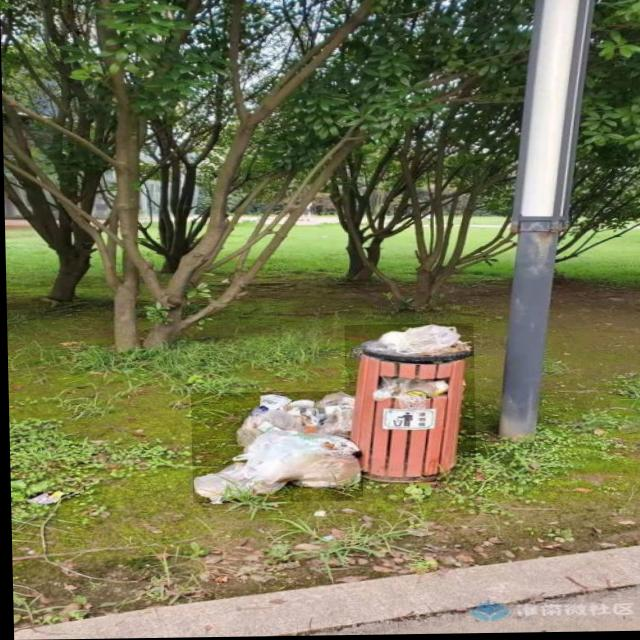garbage: (189, 392, 361, 504)
overflow: (343, 325, 475, 485)
